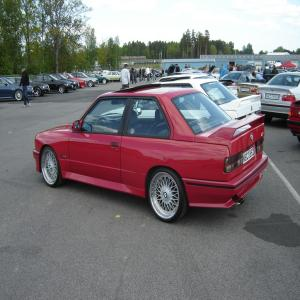Vehicle-registration-plate: (244, 148, 256, 165), (266, 95, 280, 100), (242, 88, 251, 92)
